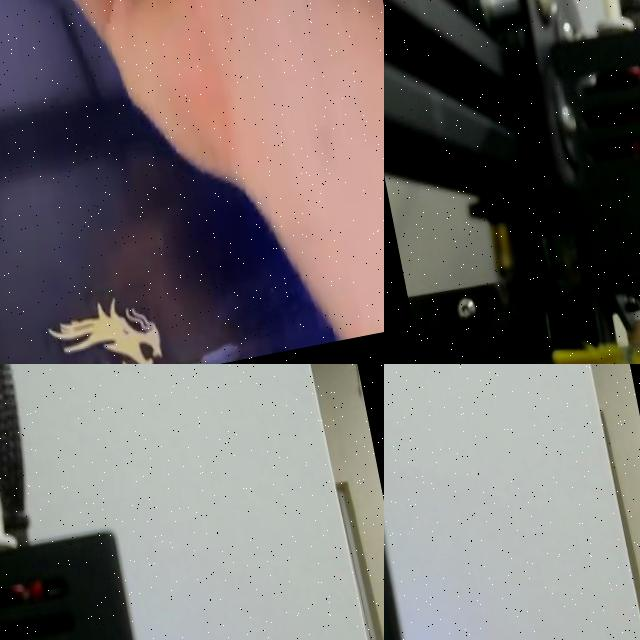spaghetti: (552, 344, 640, 364)
